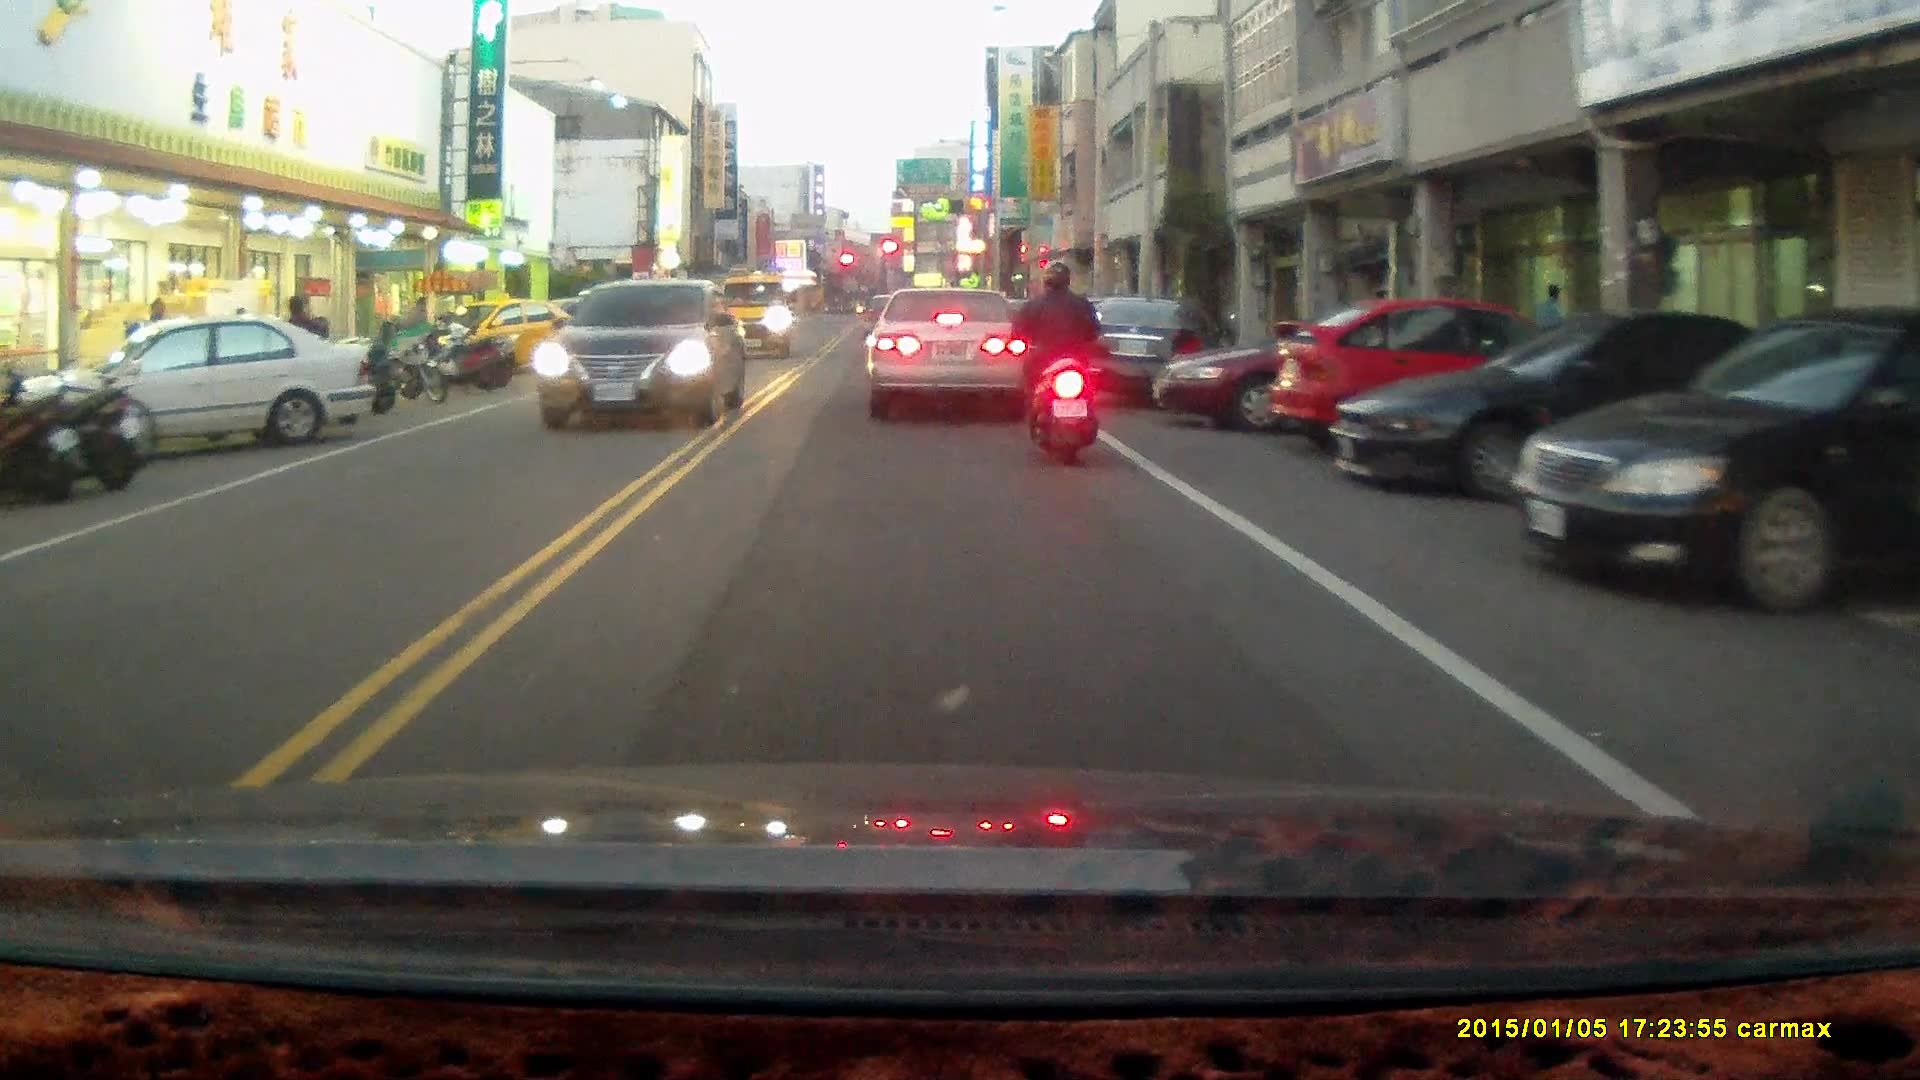pedestrian: (282, 290, 318, 389)
rider: (1006, 257, 1108, 469)
vehicle: (1506, 311, 1917, 625), (1334, 312, 1774, 507), (1262, 295, 1598, 455), (1147, 307, 1511, 439), (36, 315, 362, 462), (533, 273, 742, 428), (865, 285, 1036, 419), (1067, 295, 1207, 413), (466, 303, 594, 381), (713, 276, 793, 361)
